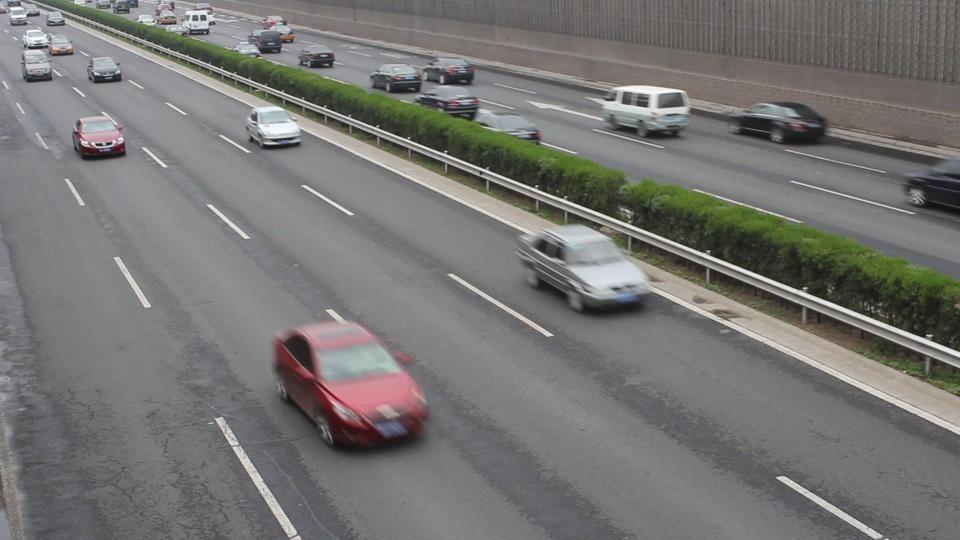car: (272, 309, 431, 450), (513, 223, 652, 312), (729, 101, 828, 144), (903, 157, 960, 212), (471, 106, 543, 145), (71, 114, 127, 159), (244, 106, 302, 148), (412, 87, 482, 120), (368, 63, 423, 93), (421, 57, 477, 85), (21, 49, 53, 82), (87, 57, 123, 83), (296, 48, 336, 69), (47, 33, 76, 57), (22, 29, 49, 49), (9, 7, 29, 26), (46, 11, 65, 26)
